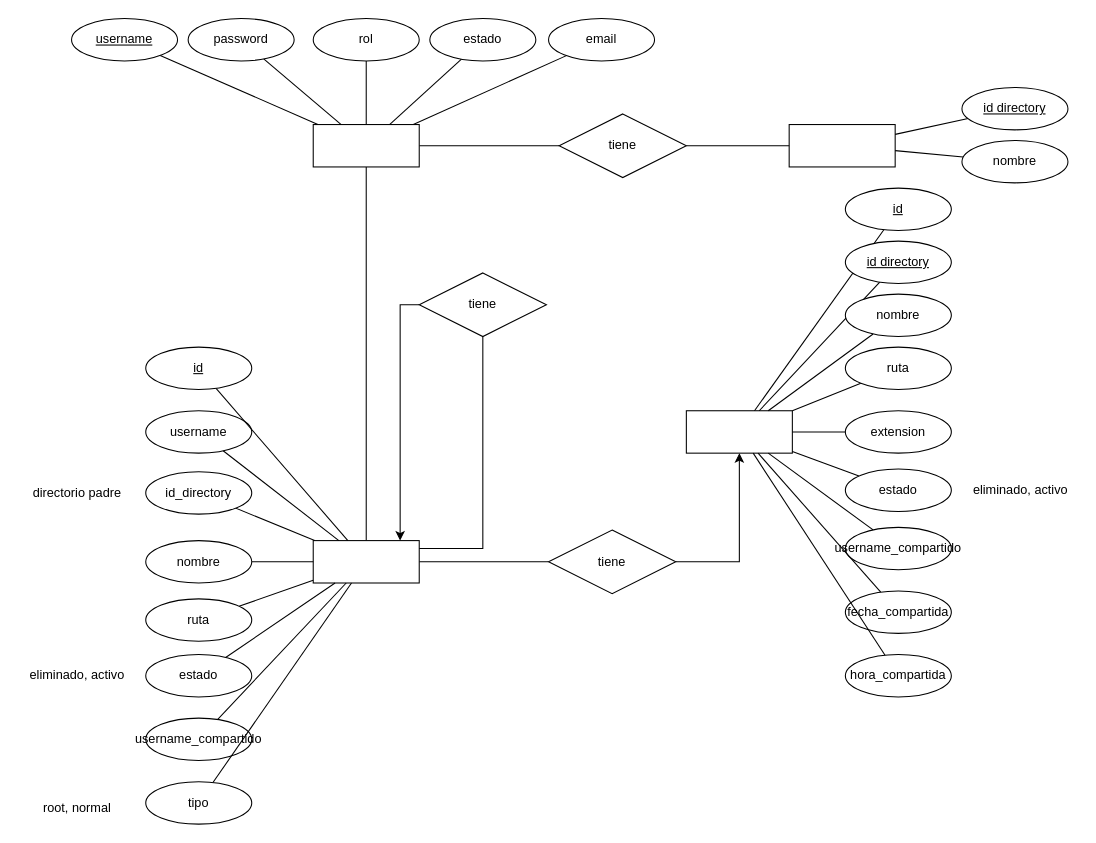
This 1096x843 diagram has some shape labels left out. Each missing label, with the box of its shape:
compartidas: (788, 123, 895, 167)
directory: (312, 540, 419, 583)
files: (685, 410, 792, 453)
users: (312, 123, 419, 167)
